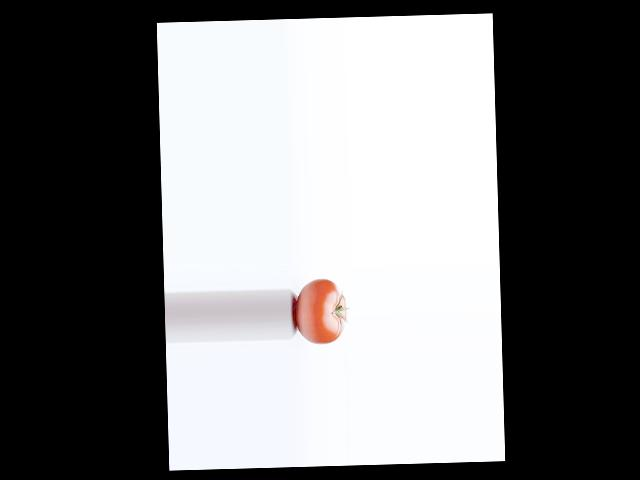tomato: (295, 278, 347, 344)
